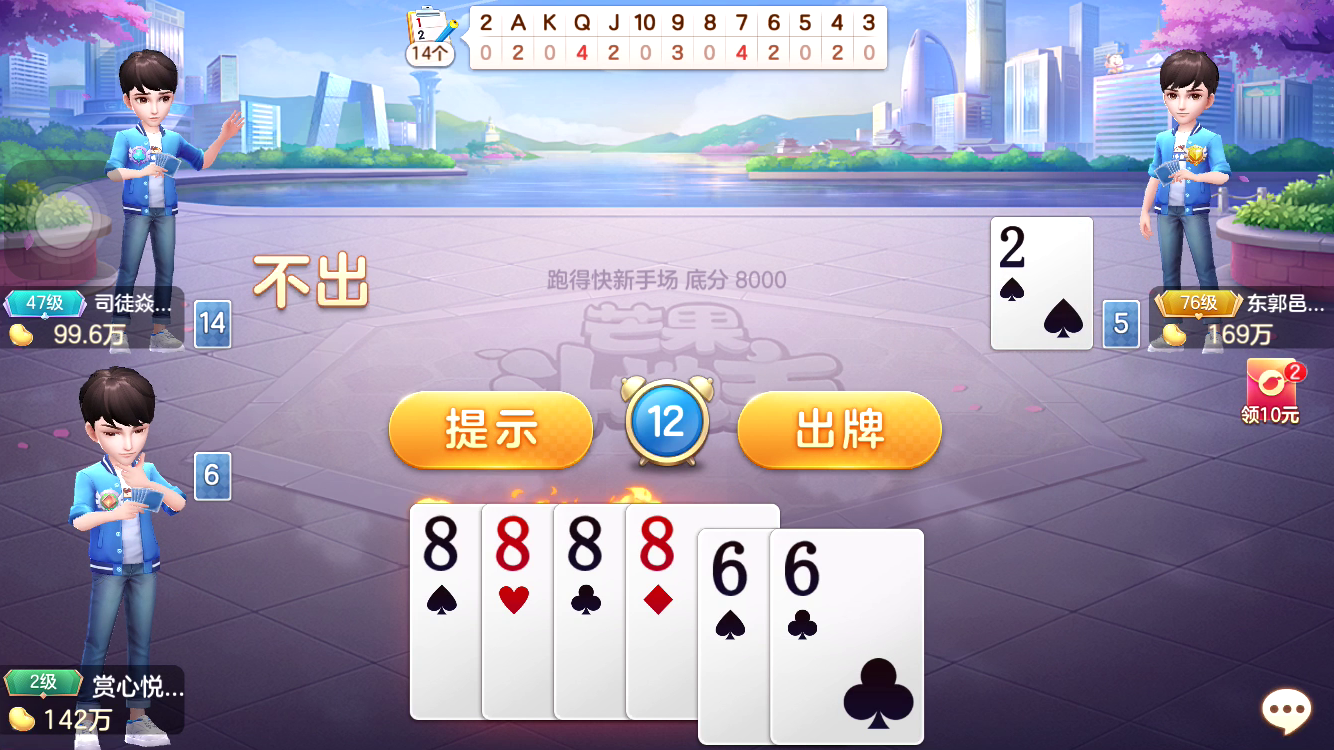eight: (413, 508, 472, 582), (627, 513, 687, 580), (559, 511, 614, 579), (492, 516, 542, 577)
six: (774, 534, 832, 602), (705, 533, 758, 604)
two: (992, 222, 1035, 275)
